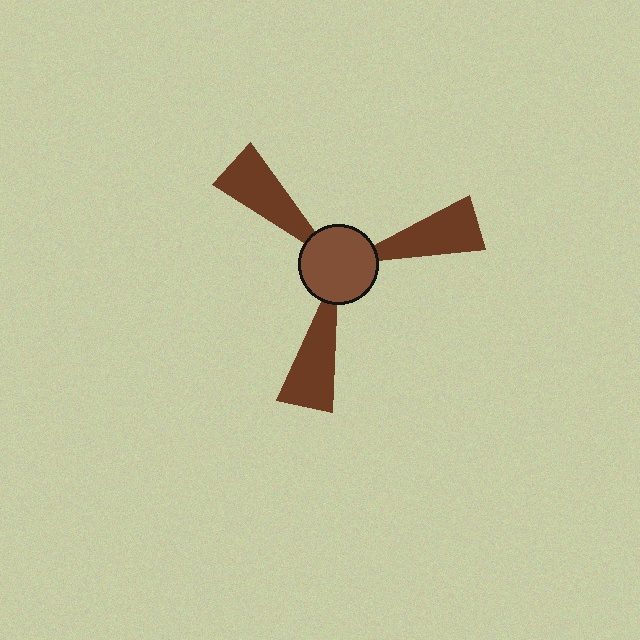fan: (162, 88, 514, 440)
